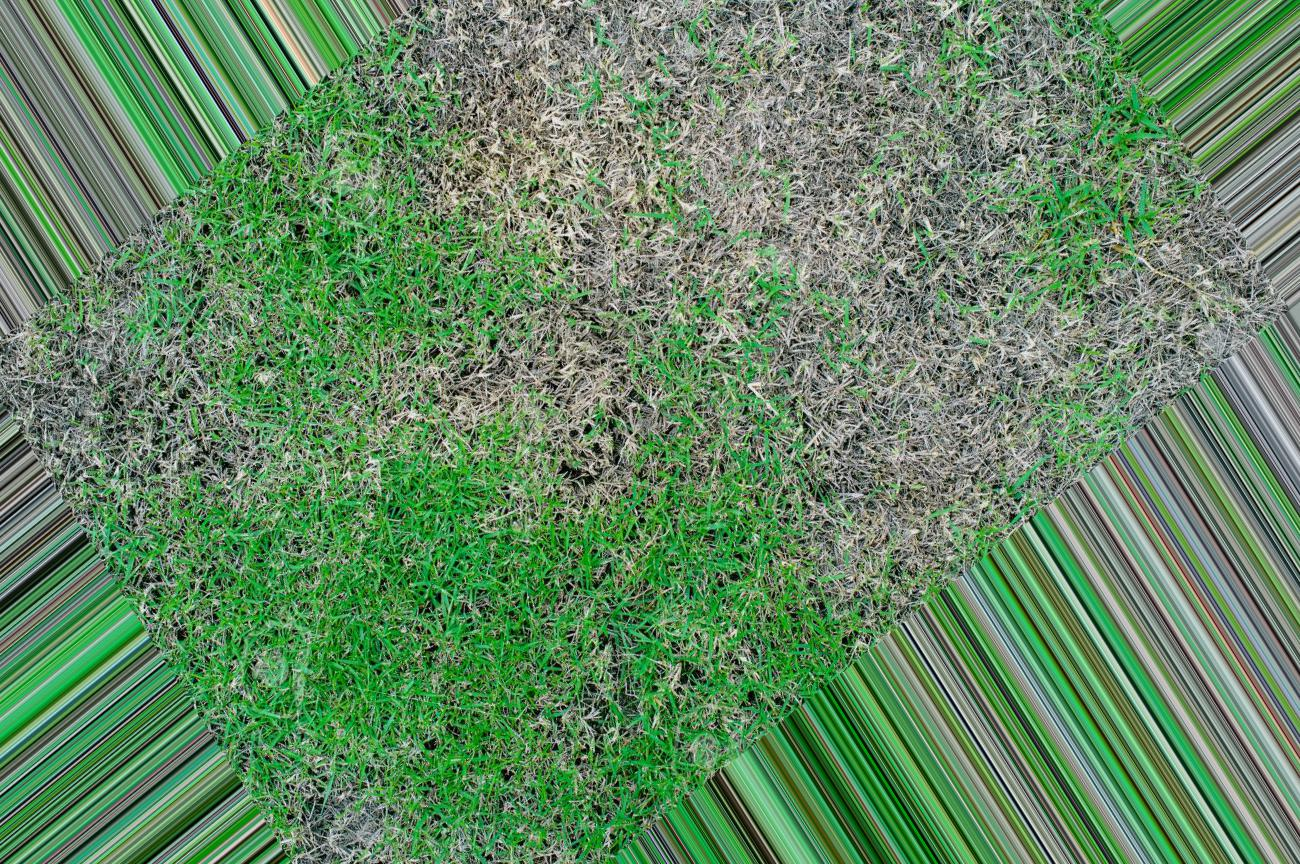patch: (525, 200, 888, 490), (942, 121, 1099, 335), (129, 329, 263, 463)
